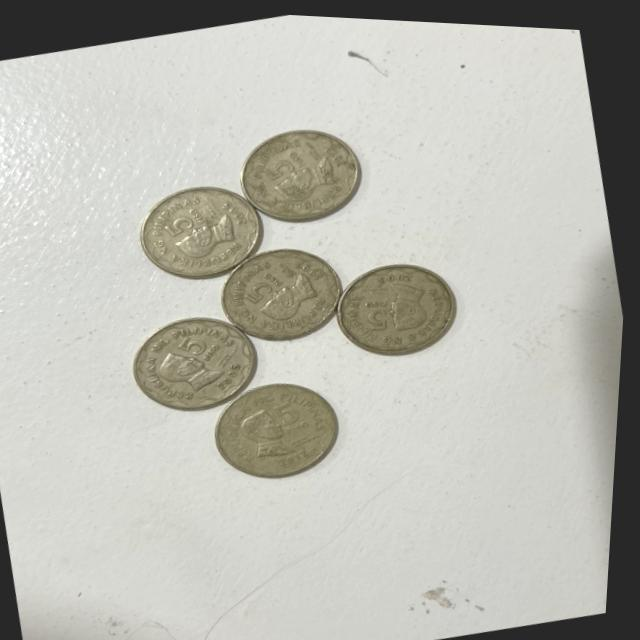5_Old_Front: (234, 259, 294, 307), (160, 197, 223, 239), (174, 322, 230, 367), (272, 390, 322, 435), (263, 144, 319, 182), (359, 289, 403, 332)
